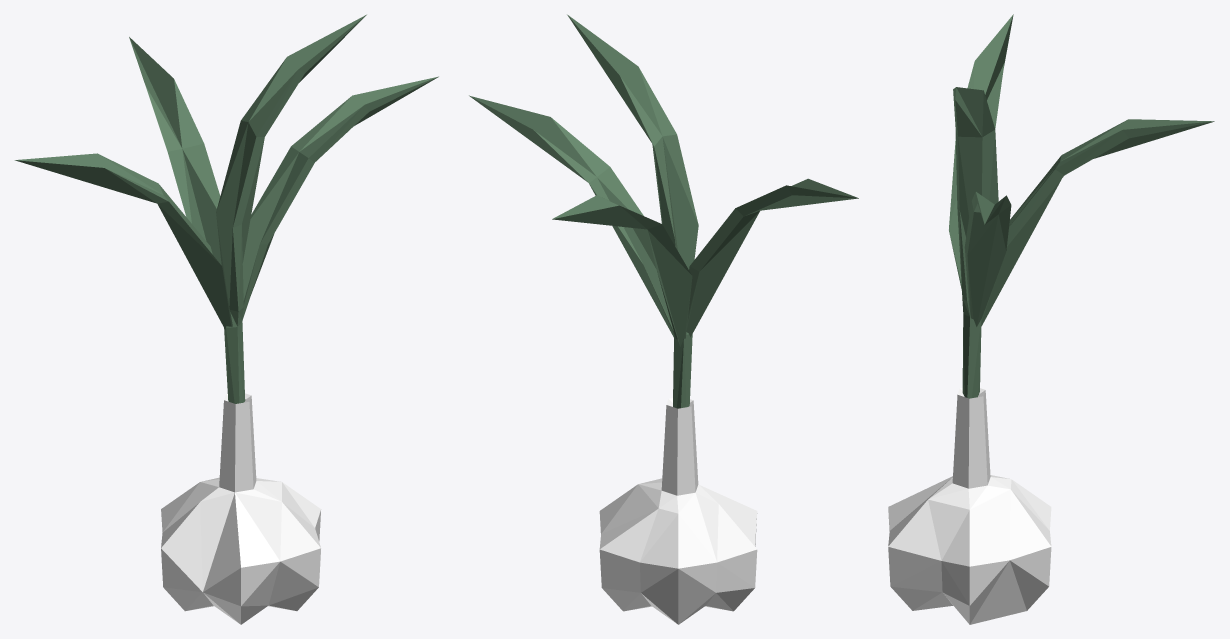
File: garlic.glb
The picture shows the model from 3 angles, left to right: view 1: azimuth 30°, elevation 25°; view 2: azimuth 150°, elevation 25°; view 3: azimuth 270°, elevation 25°; orthographic projection. The views are drawn at different scales.
Parts seen in each view (by area): view 1: garlic; view 2: garlic; view 3: garlic.
Boxes of the visible parts, x1,y1,x2,y2 form: garlic: [14, 14, 438, 624]; garlic: [469, 14, 858, 624]; garlic: [888, 14, 1214, 624].
Bounding box in the file's own units: 0.2789 × 0.3646 × 0.1886.
1 material, 1 textured.
